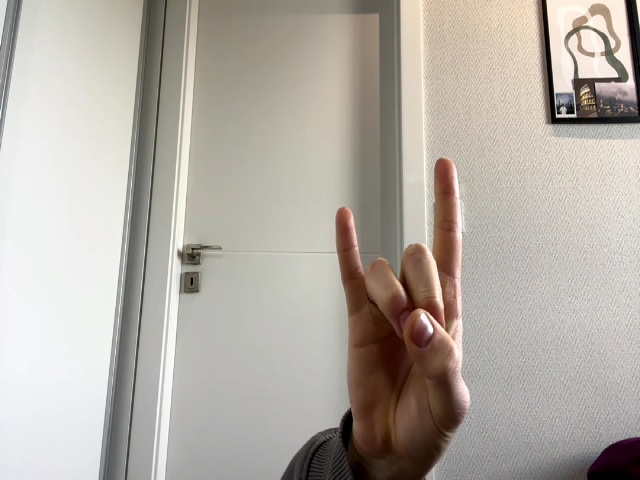Y: (336, 158, 470, 444)
